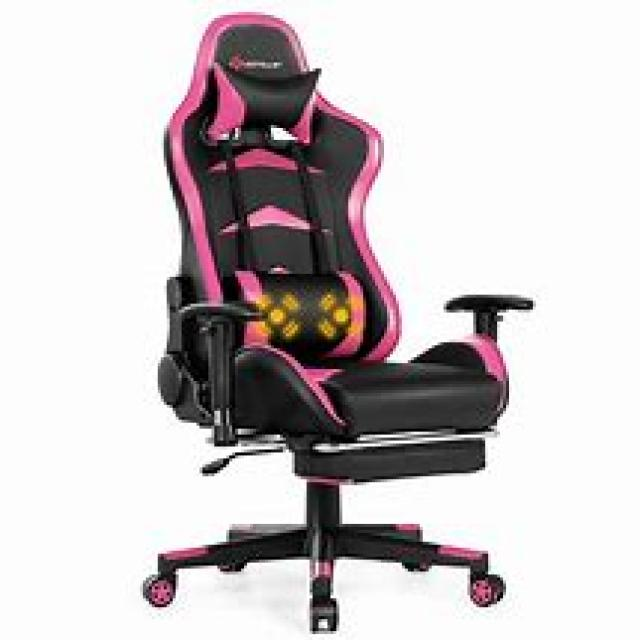chair: (140, 9, 533, 631)
